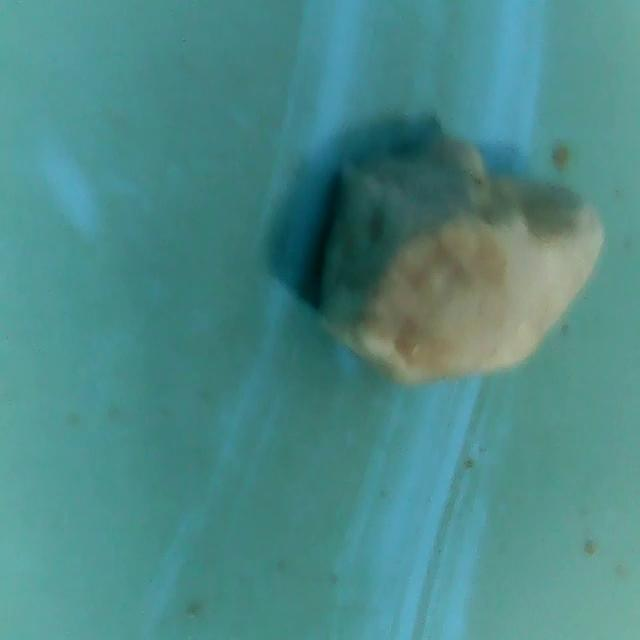rock: (287, 115, 614, 392)
